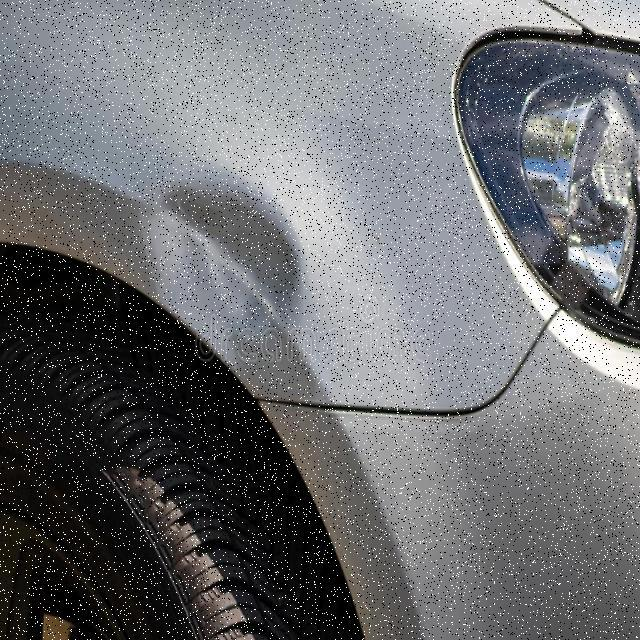fender-dent: (0, 0, 478, 413)
